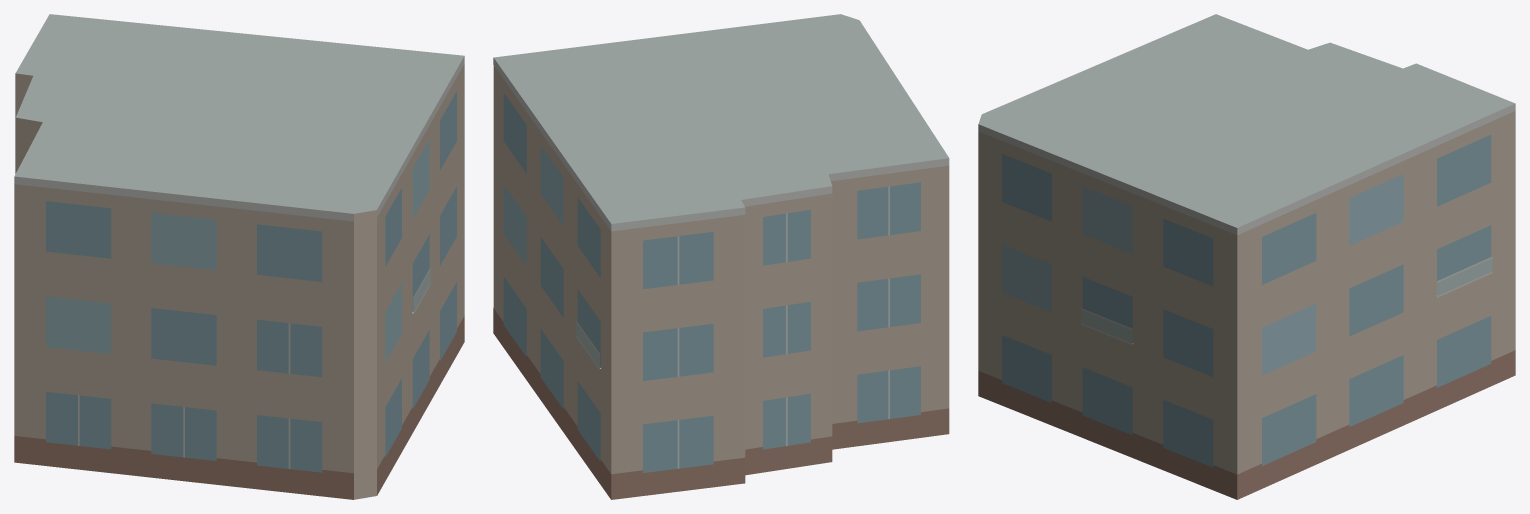
Rendered from survey-upis-32776060.glb.
3 renders of one model, left to right at view 1: azimuth 30°, elevation 25°; view 2: azimuth 150°, elevation 25°; view 3: azimuth 270°, elevation 25°, orthographic. The views are drawn at different scales.
Visible parts, largest first — view 1: survey-upis-32776060.tmp; view 2: survey-upis-32776060.tmp; view 3: survey-upis-32776060.tmp.
Part boxes in pixels (<box>): survey-upis-32776060.tmp: <box>14,14,464,499</box>; survey-upis-32776060.tmp: <box>493,14,949,499</box>; survey-upis-32776060.tmp: <box>978,14,1515,499</box>.
Size of the model in its own units: 15.46 by 9.15 by 16.4.
